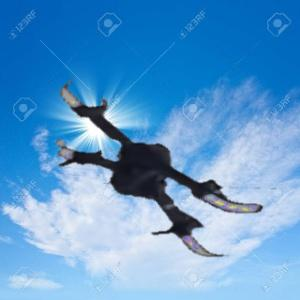drone: (48, 42, 278, 272)
